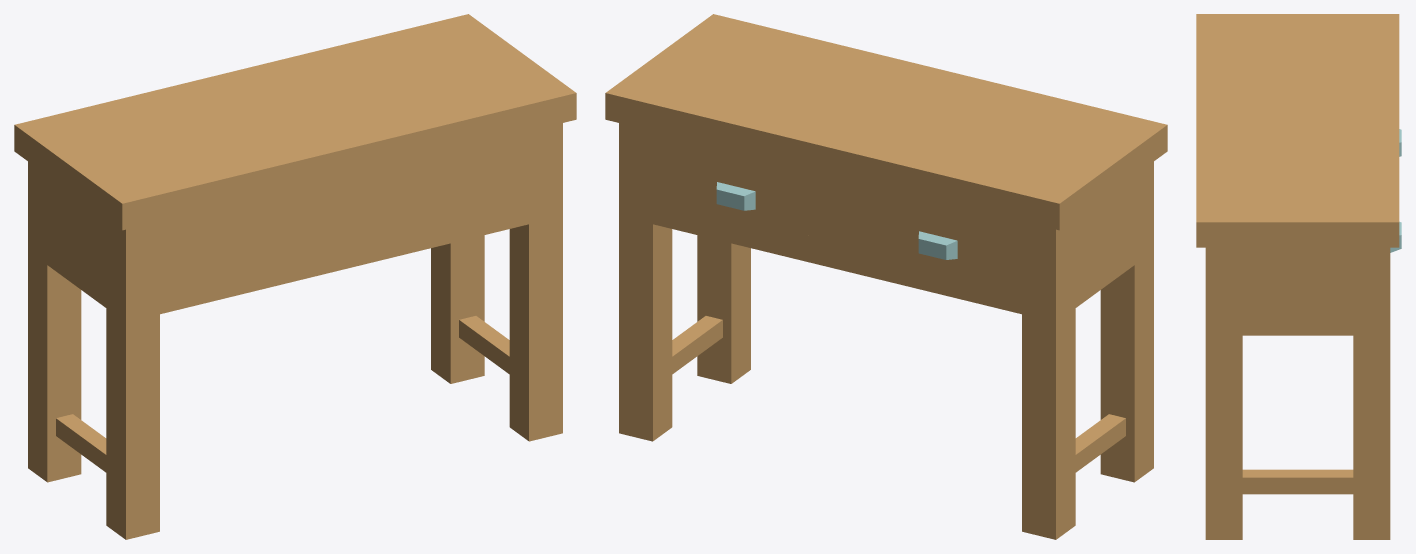
The model's file is sideTableDrawers.glb.
3 renders of one model, left to right at view 1: azimuth 30°, elevation 25°; view 2: azimuth 150°, elevation 25°; view 3: azimuth 270°, elevation 25°, orthographic. The views are drawn at different scales.
Size of the model in its own units: 5.34 by 3.84 by 2.22.
